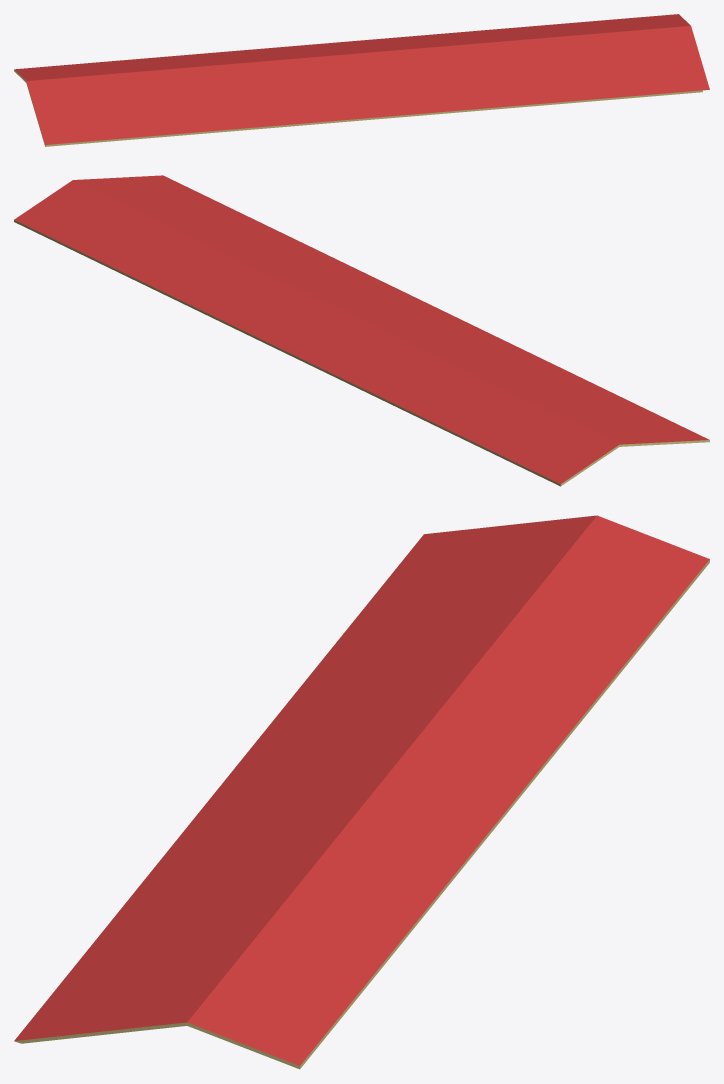
3 views of the same model, one above another, from view 1: azimuth 30°, elevation 25°; view 2: azimuth 150°, elevation 25°; view 3: azimuth 270°, elevation 25° (orthographic). The views are drawn at different scales.
Bounding box in the file's own units: 33.99 × 18.24 × 1.36.
